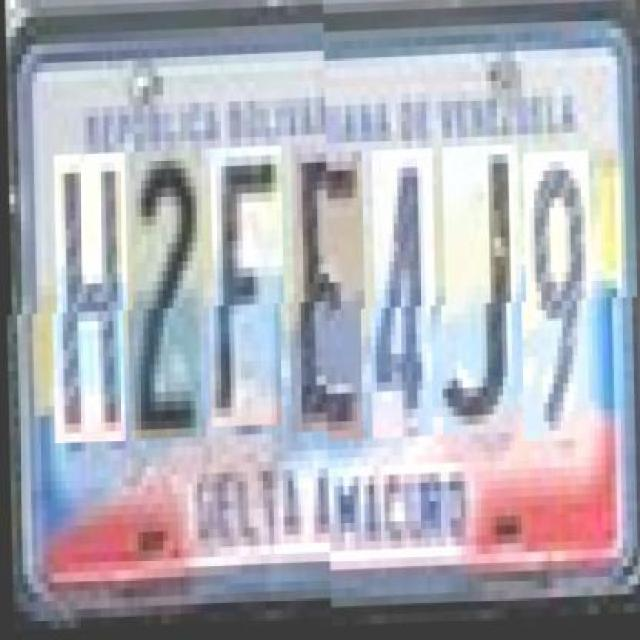2: (129, 159, 205, 450)
4: (371, 150, 437, 442)
9: (522, 156, 593, 447)
e: (290, 153, 365, 444)
f: (210, 157, 285, 438)
h: (53, 162, 129, 453)
j: (441, 148, 522, 440)
